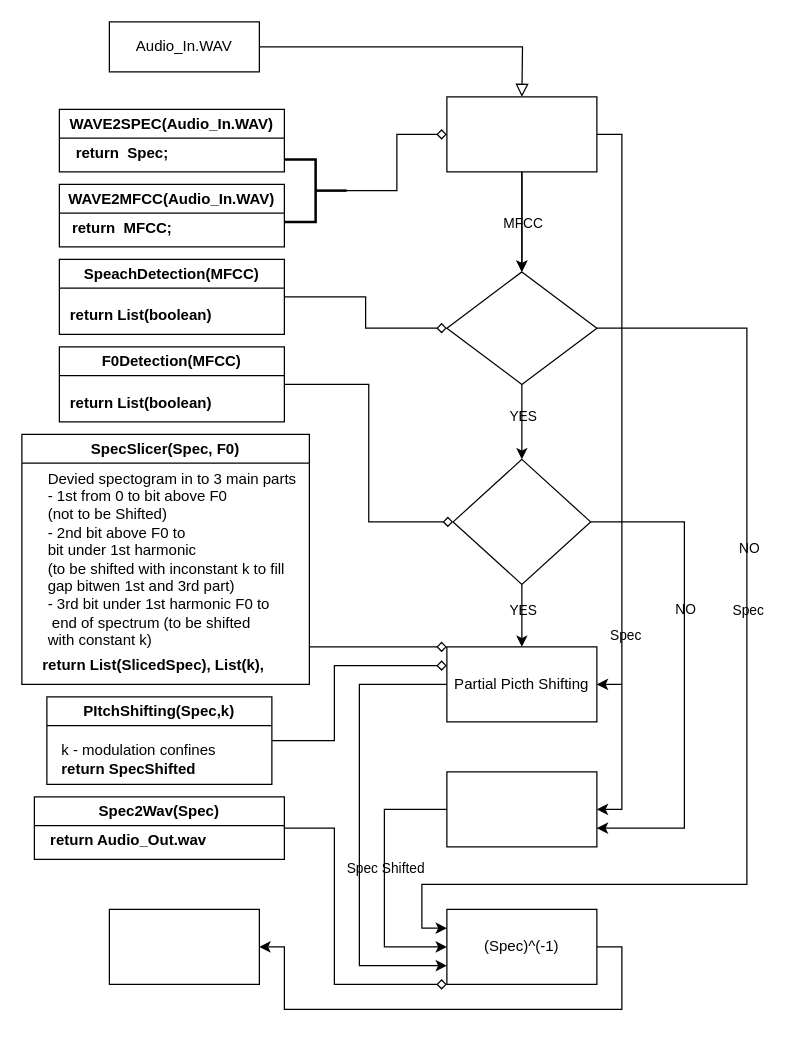
Image size: 785x1041. Some labels were removed from this diagram. Here are the shapes that lost their labels. From the top down, the centre of each, then its label:
At (521,134): "MFCC / Spec".
At (521,327): "Is It human Voice?".
At (521,521): "Is there F0 to extract?".
At (521,809): "Total Picth Shifting".
At (183,946): "AudioOut.WAV".
